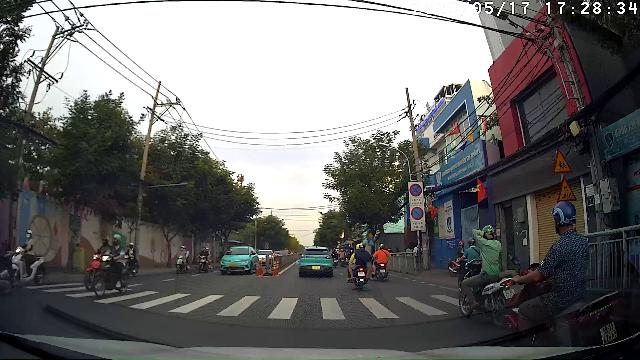130-cam-dung-va-do-xe: (409, 183, 422, 197)
131a-cam-do-xe: (411, 206, 424, 220)
